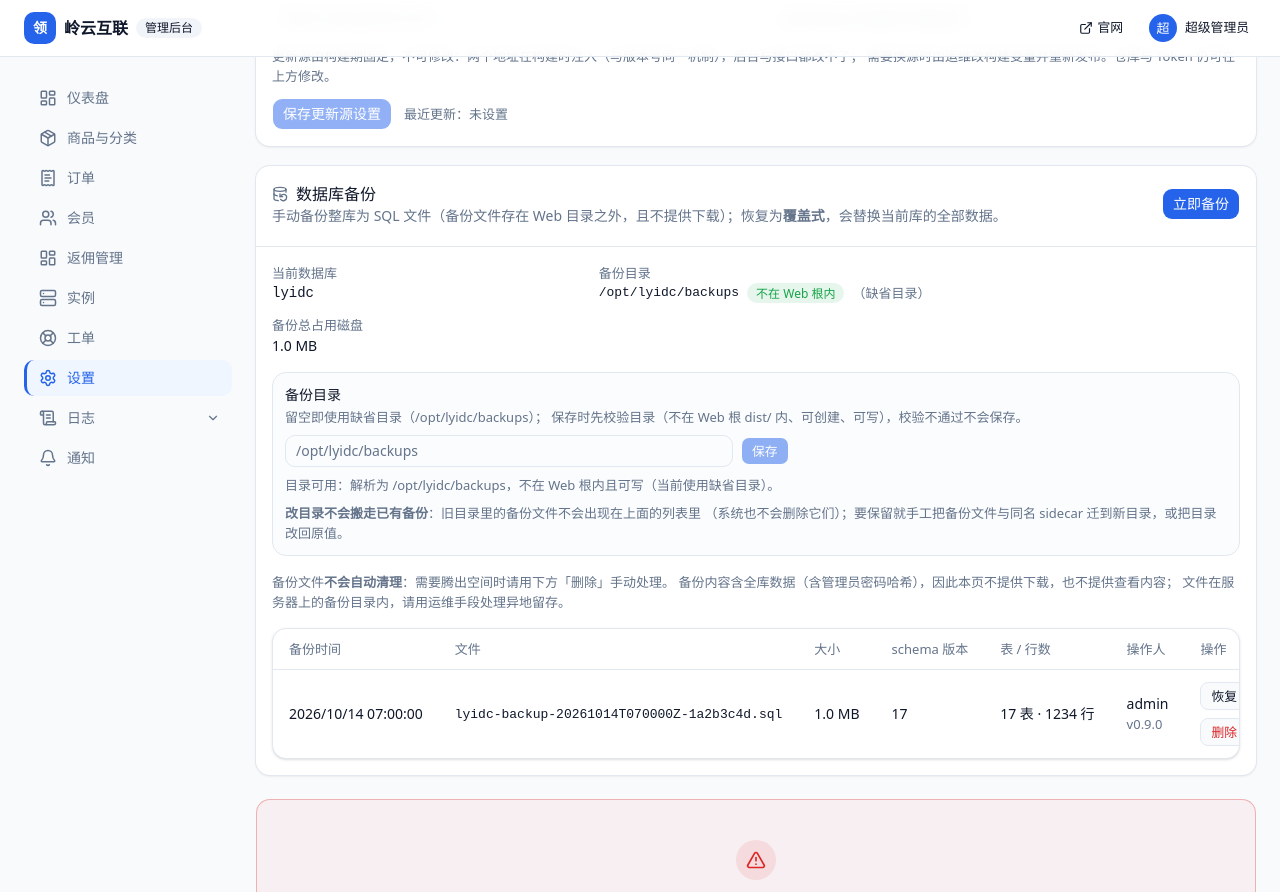
Test: 管理后台 · 数据库备份（R14，契约 21） › 保存备份目录：提交 {dir} 请求体，成功后重读列表（目录展示随之更新）
This screenshot has width=1280, height=892.
(page scrolled)
Expected: the element with test id "db-backups-panel" is shown, [256,166,1256,775]
Type "/srv/lyidc-bk" into the field named "备份目录" at (509, 451), box [285,435,733,467]
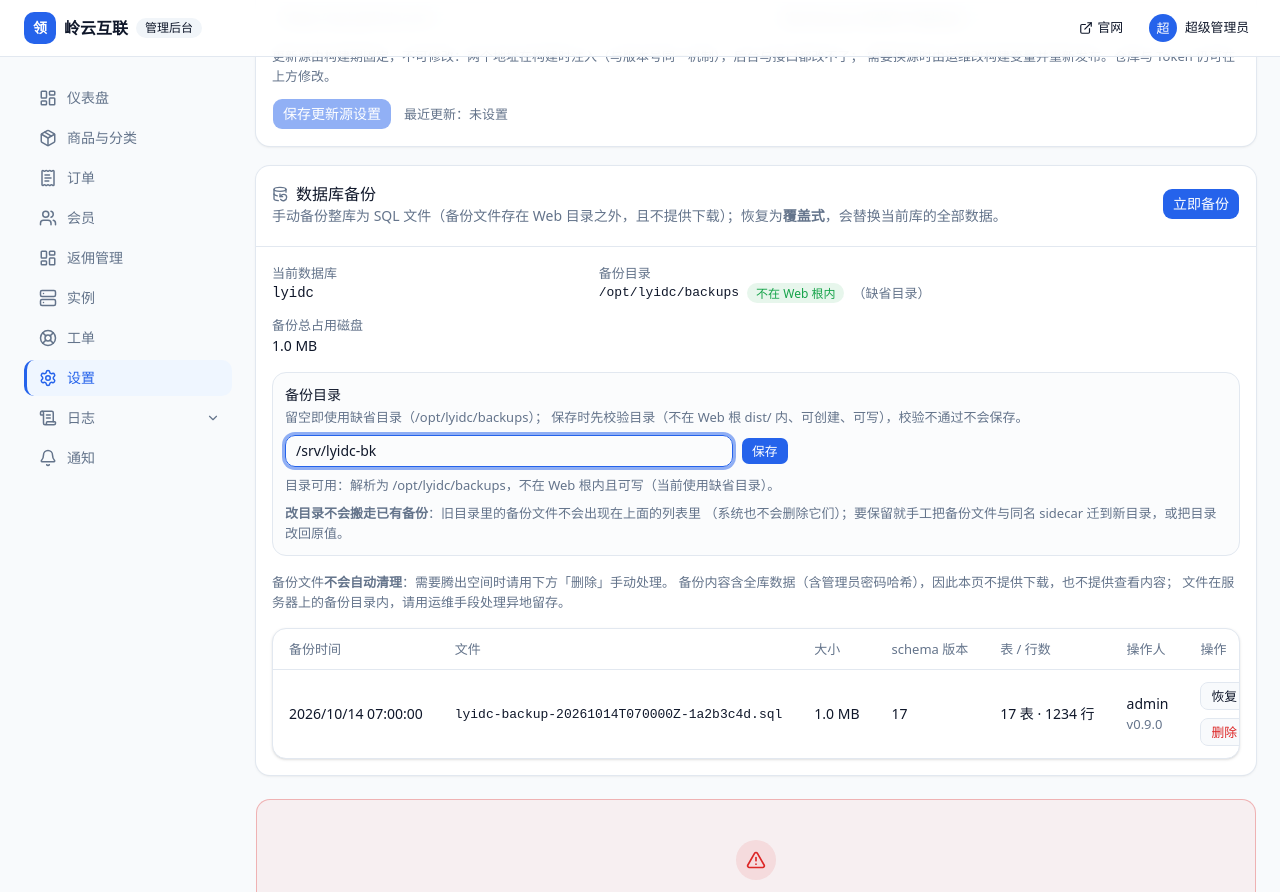
Click the button with test id "db-backup-dir-save" at (765, 451), box [741,437,789,465]
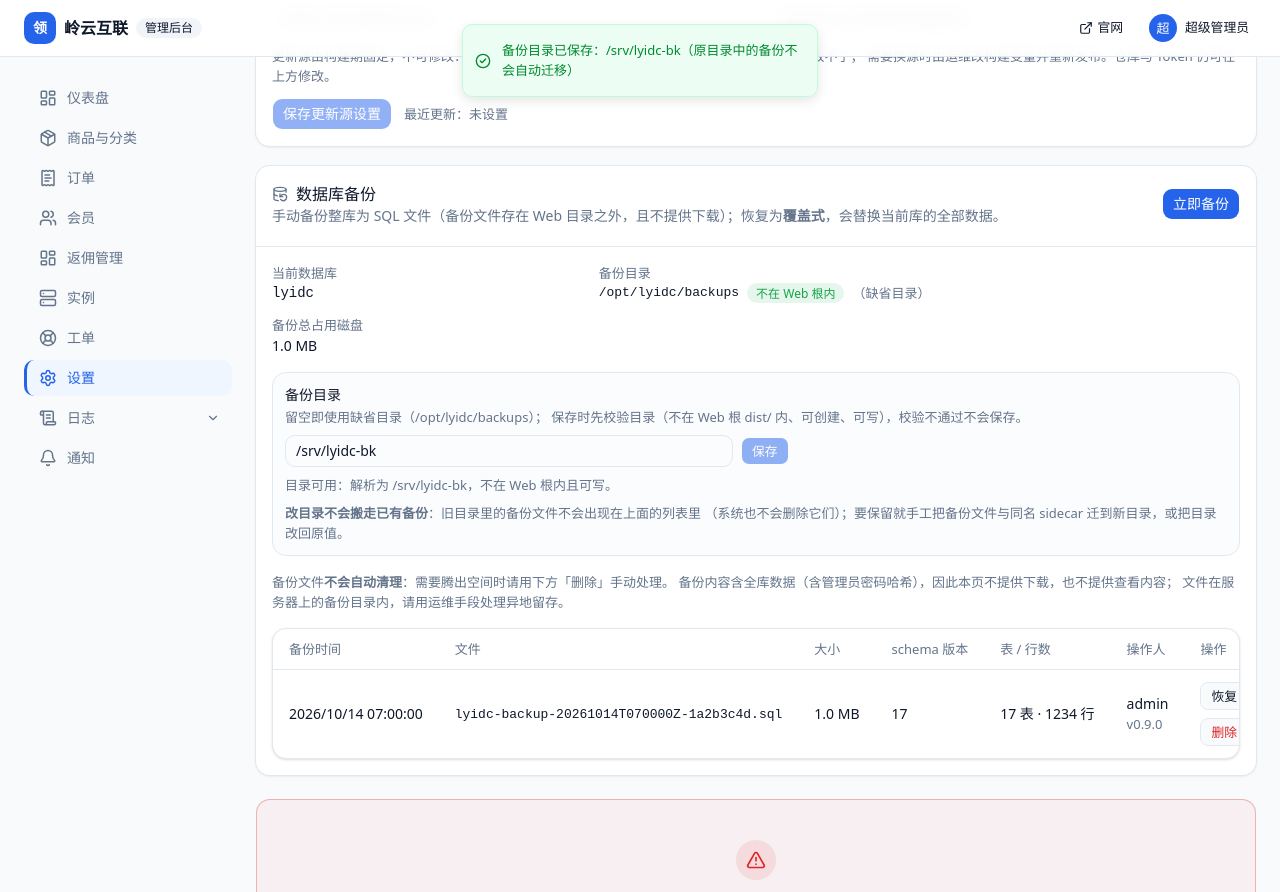
Expected: the text "备份目录已保存：/srv/lyidc-bk（原目录中的备份不会自动迁移）" is shown, [502,41,801,80]
